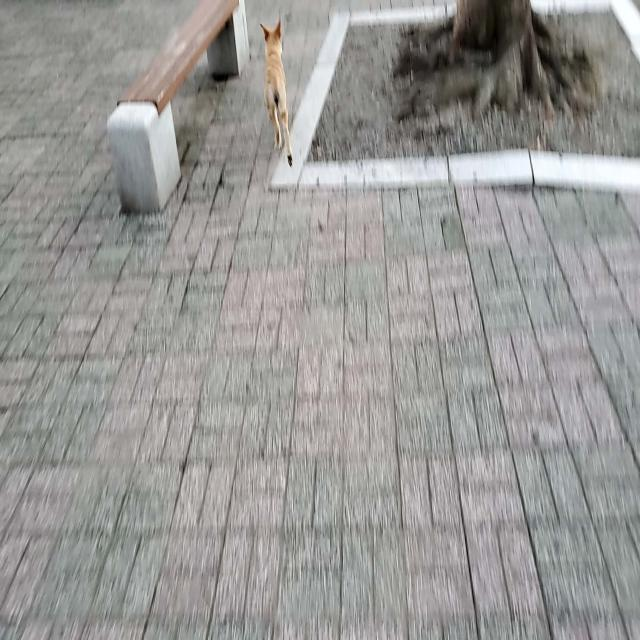Dog: (260, 13, 294, 167)
